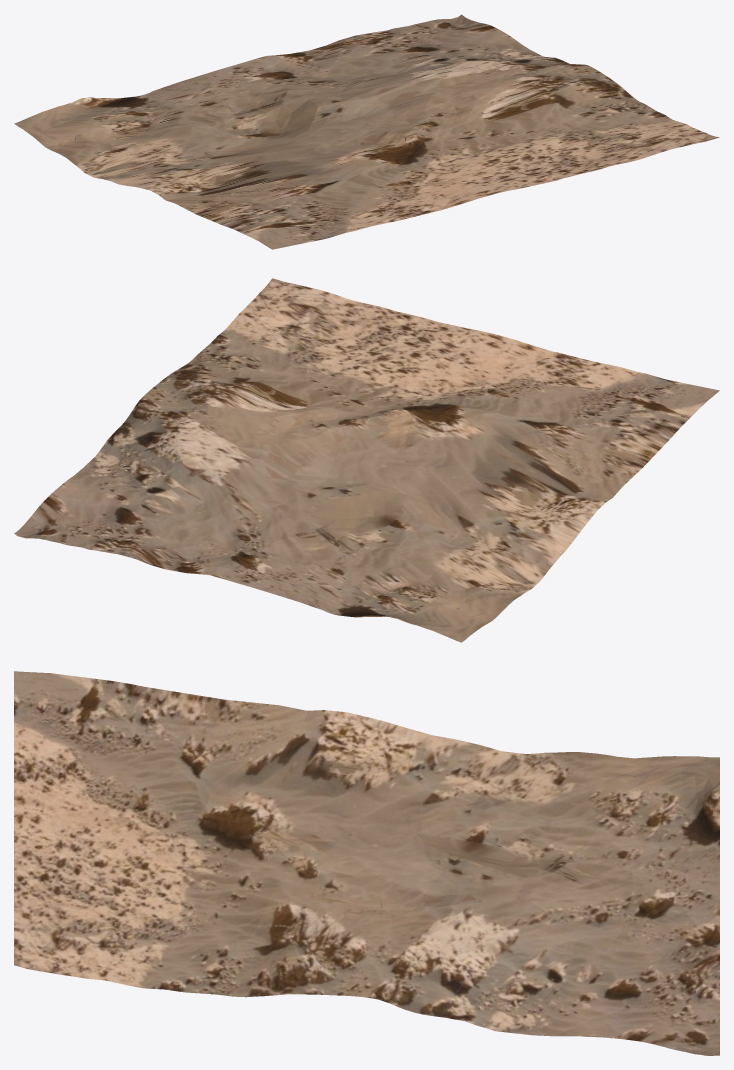
The picture shows the model from 3 angles, top to bottom: view 1: azimuth 30°, elevation 25°; view 2: azimuth 150°, elevation 25°; view 3: azimuth 270°, elevation 25°; orthographic projection. The views are drawn at different scales.
Bounding box in the file's own units: 2.09 × 0.3095 × 2.09.
Materials: 2 (2 with a texture image).
